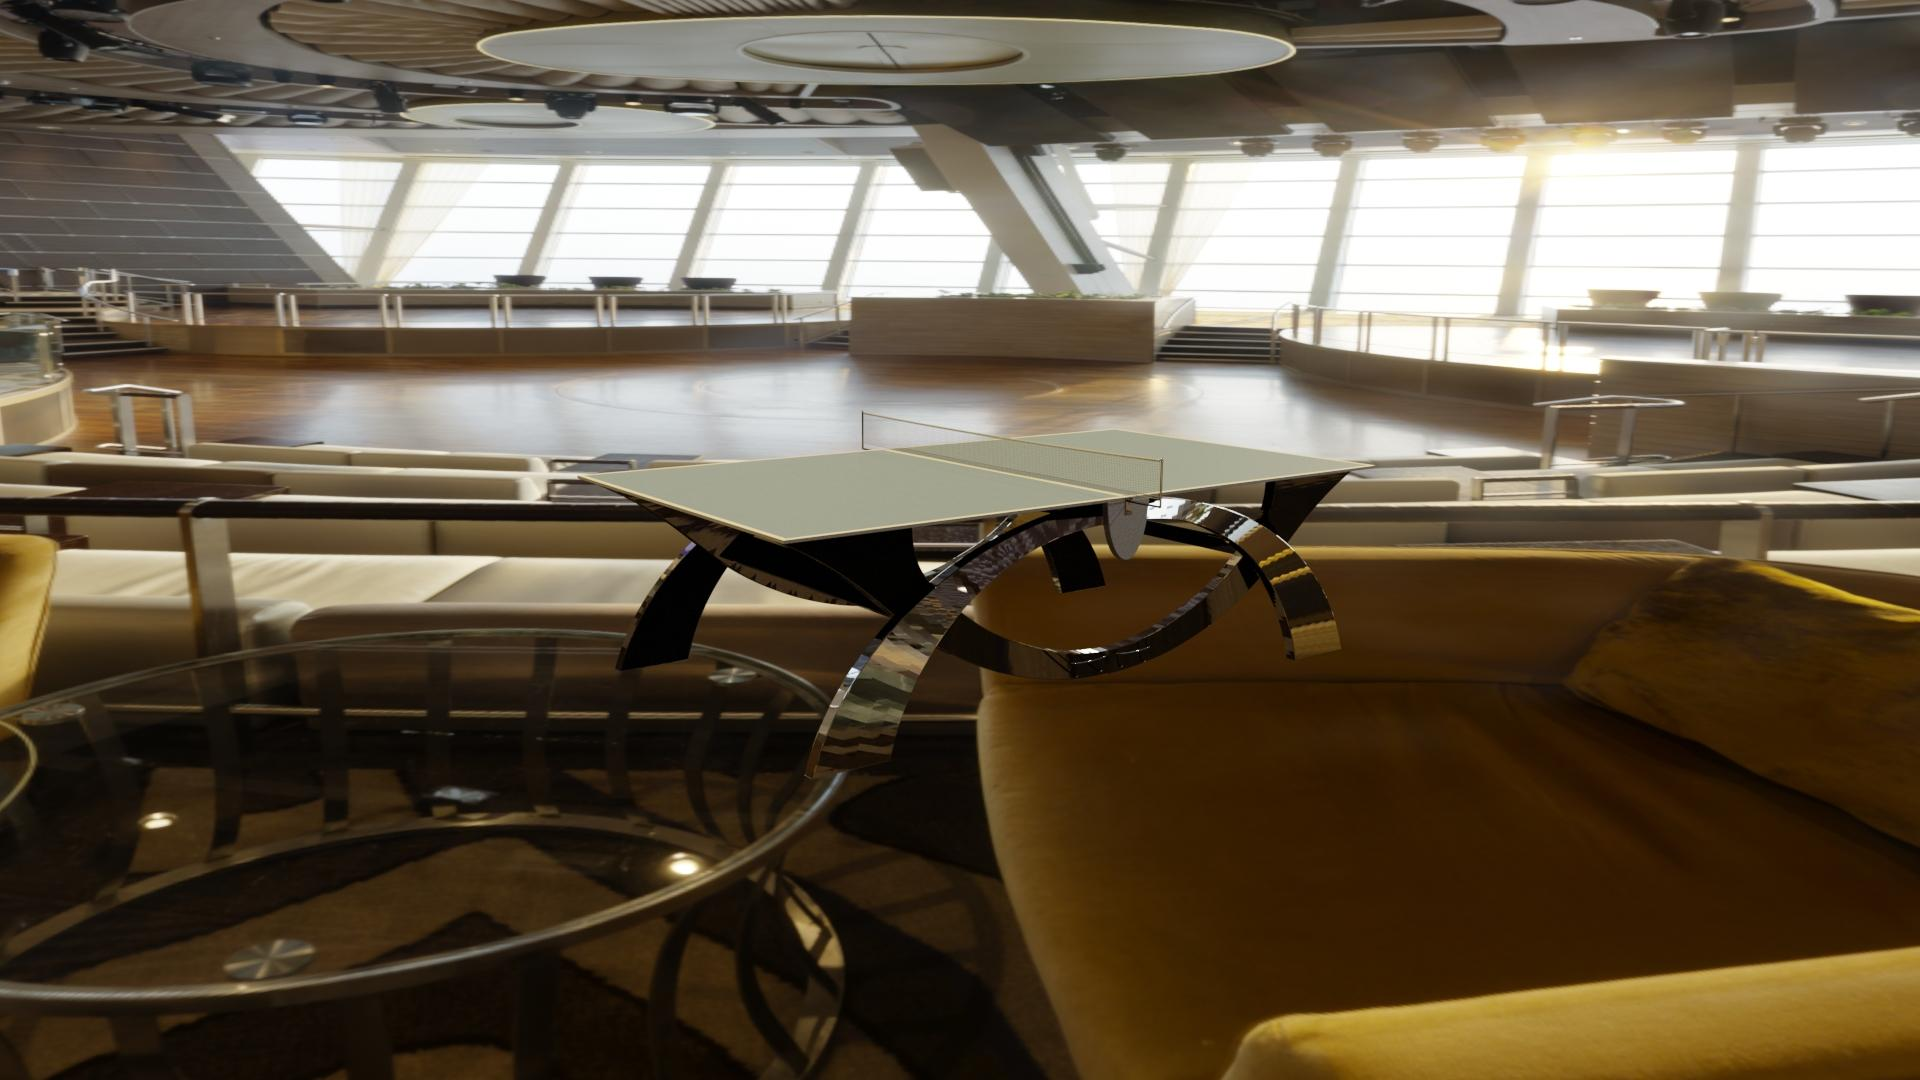table: (584, 430, 1369, 538)
